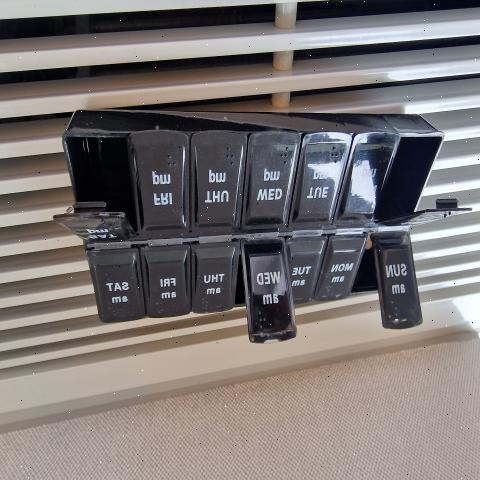Open: (55, 136, 136, 233), (376, 131, 446, 218), (355, 233, 383, 316), (235, 248, 246, 308)
